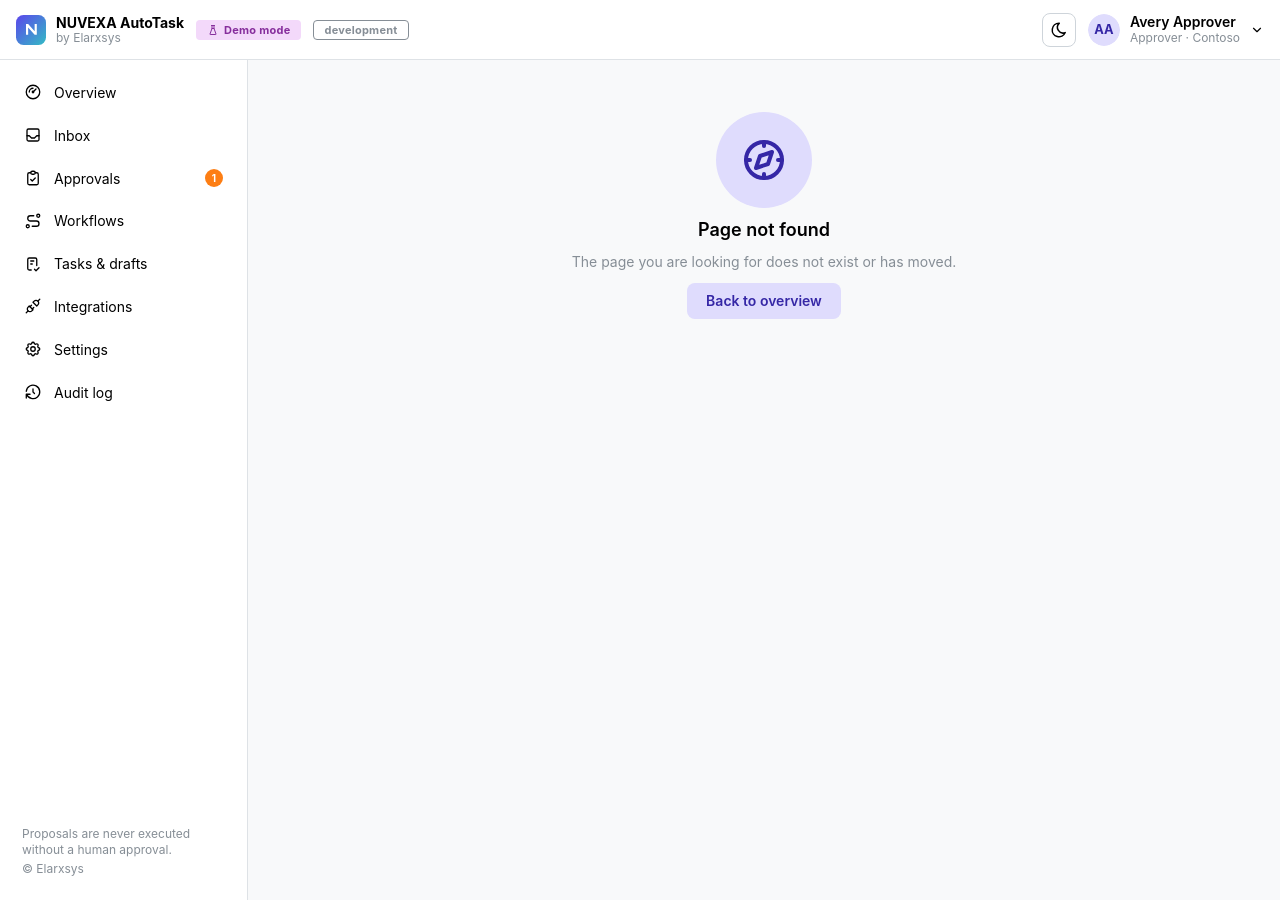
Test: protected deep links › renders the 404 page inside the shell for an unknown path
expect the text "Page not found" is shown: met, box [698,218,830,241]
expect the navigation bar named "Main navigation" is shown: met, box [0,60,248,899]
What coordinates should you click on to do the following:
click the link "Back to overview"
I would click on:
 (764, 301)
Its box is [687,283,841,319].
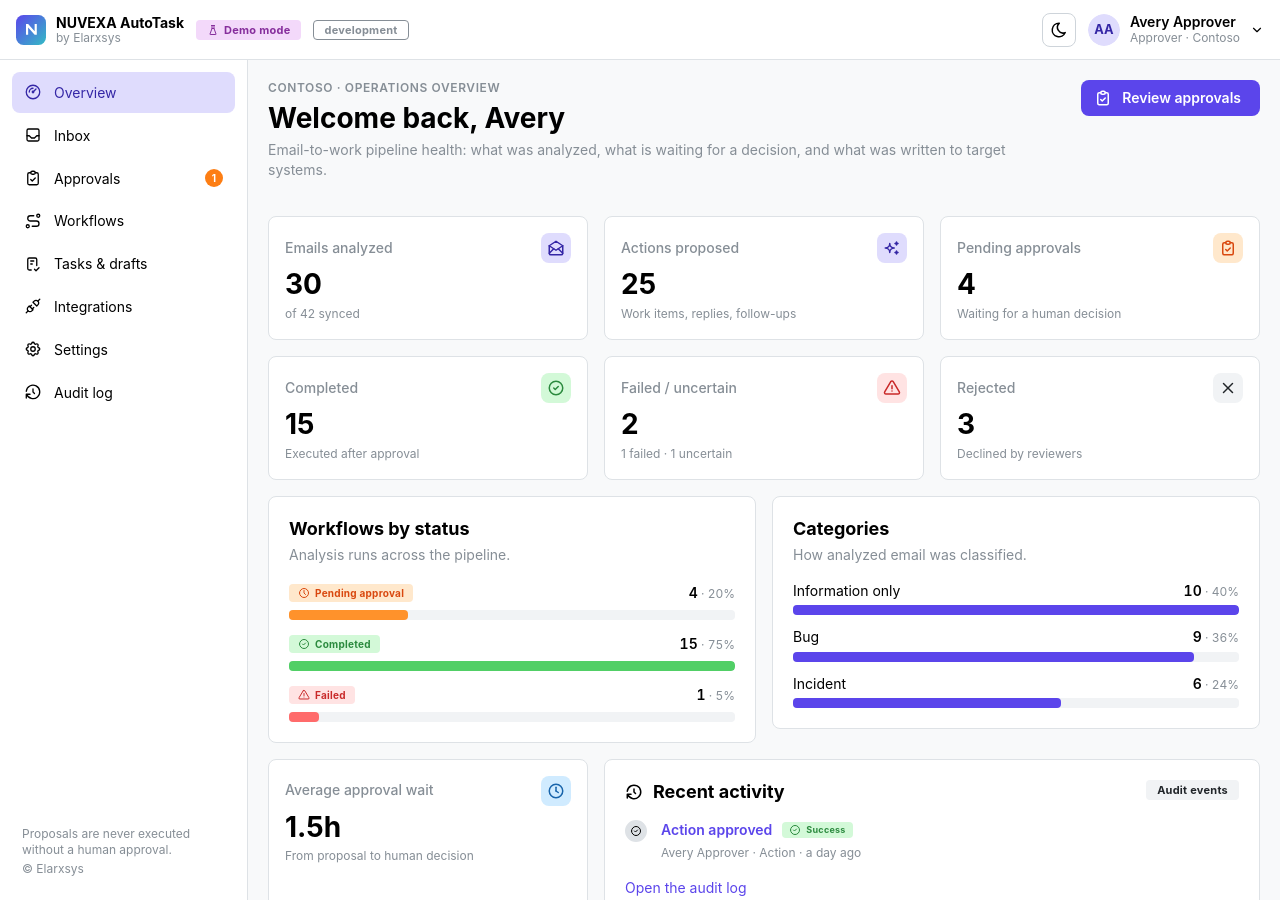
expect the heading "Welcome back, Avery" is shown: met, box [268,101,565,135]
